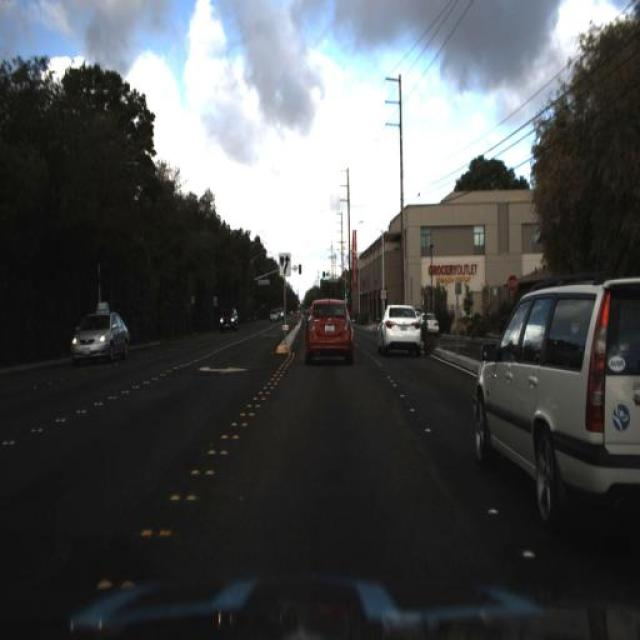car: (466, 262, 640, 570), (293, 294, 362, 370), (370, 291, 426, 365), (70, 310, 130, 368), (420, 306, 446, 338), (218, 307, 242, 335)
